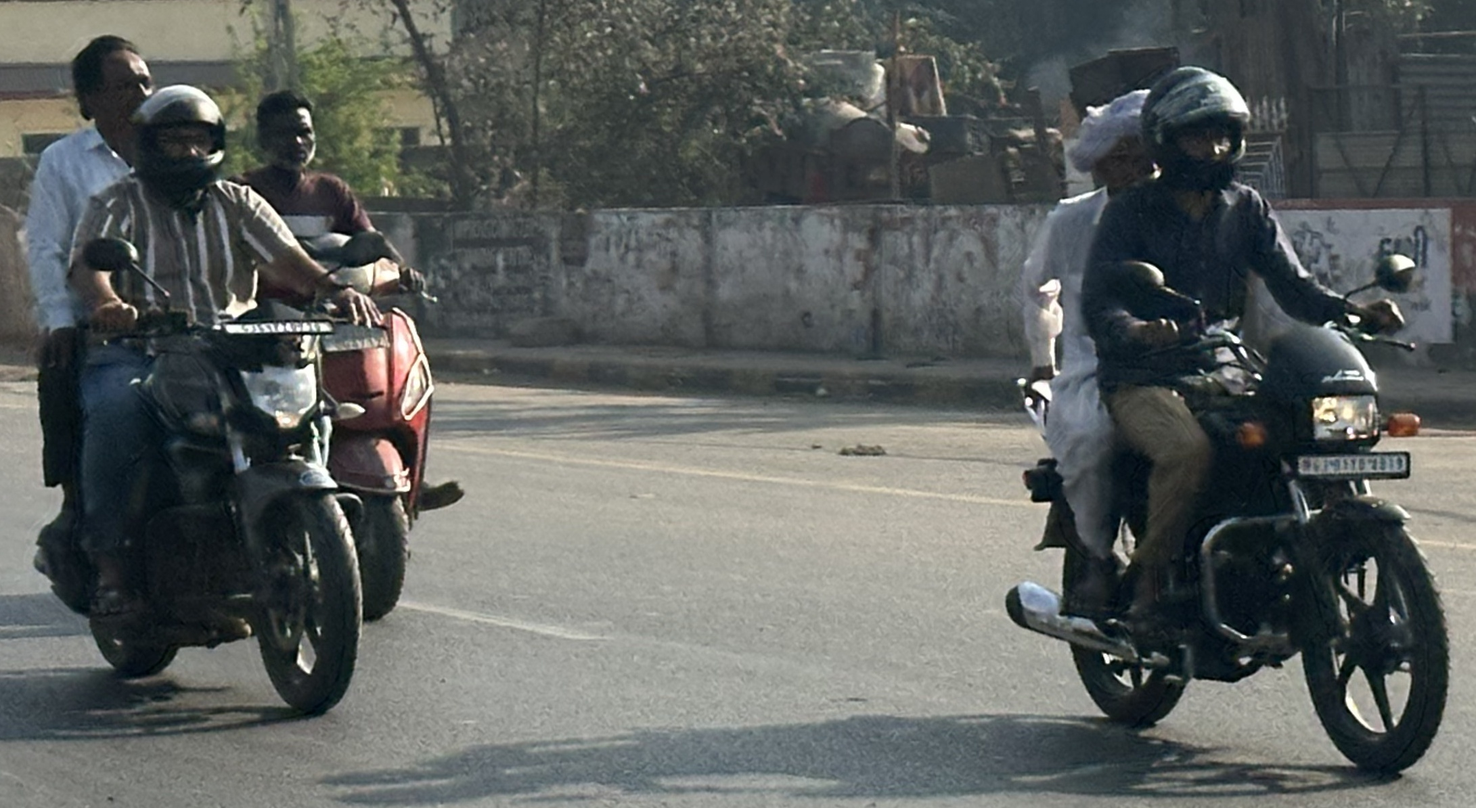BikeWithRider: (943, 35, 1476, 782), (24, 14, 380, 719), (183, 78, 467, 644)
Helmet: (1148, 51, 1261, 206), (122, 78, 241, 211)
NoHelmet: (1058, 89, 1195, 220), (64, 20, 157, 145), (246, 87, 345, 173)
